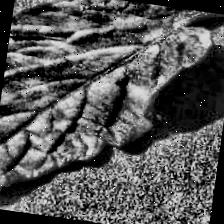leaf mold: (0, 0, 216, 224)
